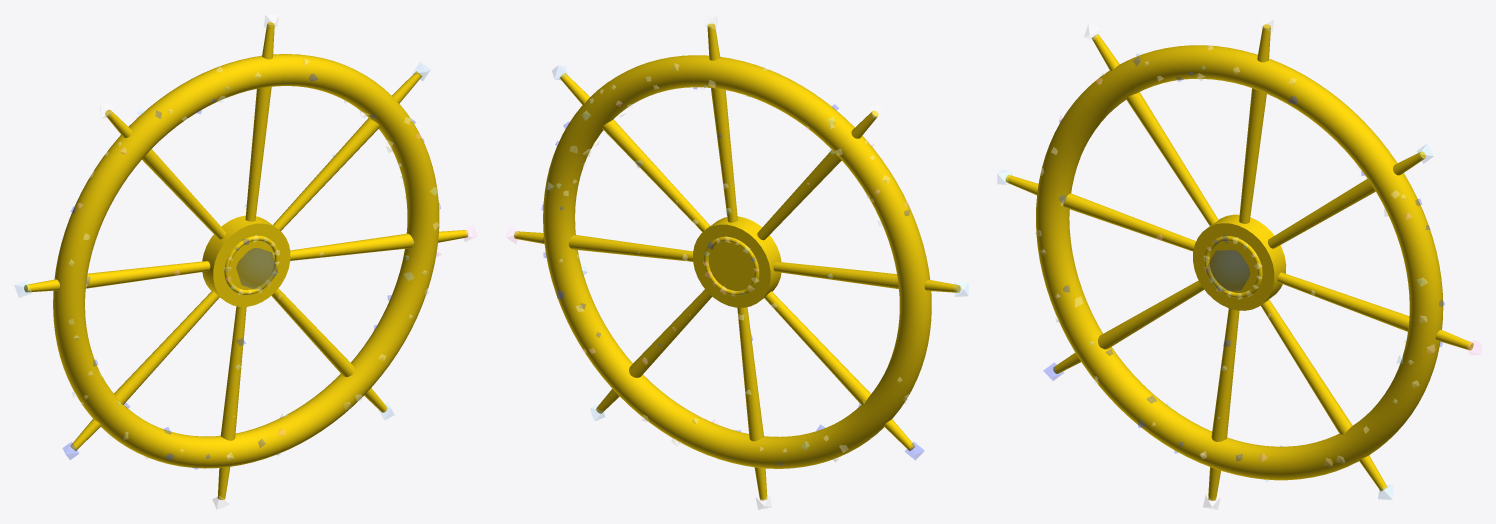
File: timone-mare-aureo.glb
The picture shows the model from 3 angles, left to right: view 1: azimuth 30°, elevation 25°; view 2: azimuth 150°, elevation 25°; view 3: azimuth 330°, elevation 25°; orthographic projection. The views are drawn at different scales.
Size of the model in its own units: 8.3 by 8.3 by 1.02.
